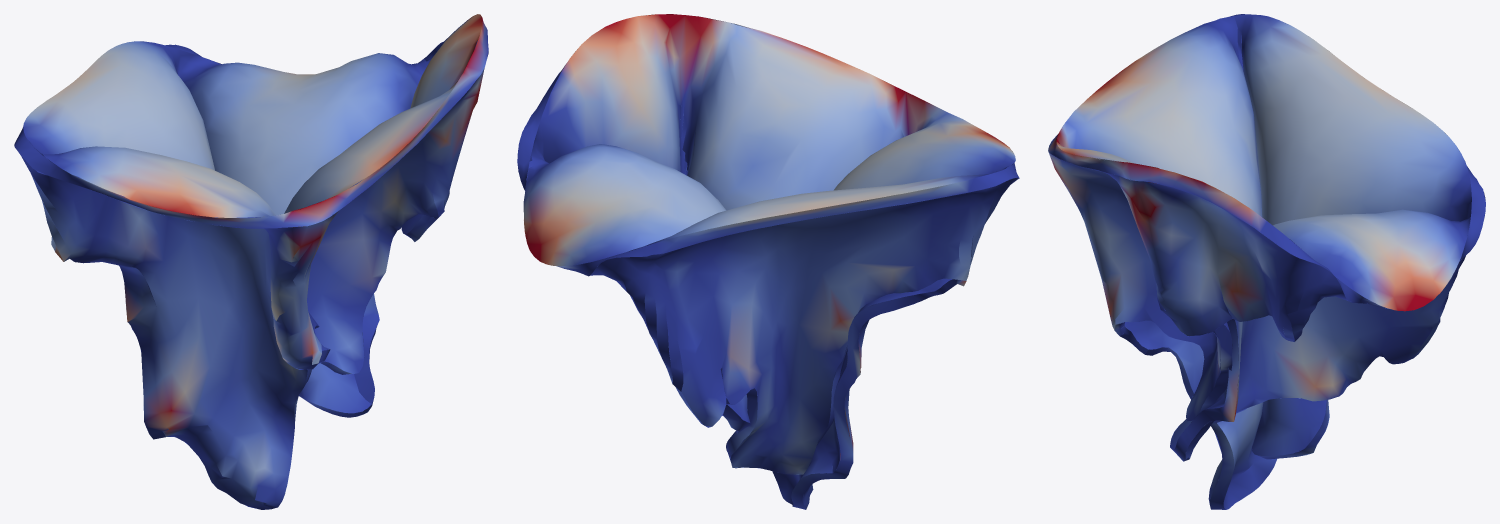
3 views of the same model, side by side, from view 1: azimuth 30°, elevation 25°; view 2: azimuth 150°, elevation 25°; view 3: azimuth 270°, elevation 25° (orthographic). The views are drawn at different scales.
Visible parts, largest first — view 1: OCS14_maxS_15; view 2: OCS14_maxS_15; view 3: OCS14_maxS_15.
Boxes of the visible parts, bbox=[...] form: OCS14_maxS_15: bbox=[14, 14, 488, 509]; OCS14_maxS_15: bbox=[517, 14, 1019, 509]; OCS14_maxS_15: bbox=[1048, 14, 1485, 509].
Bounding box in the file's own units: 1.42 × 1.28 × 1.19.
